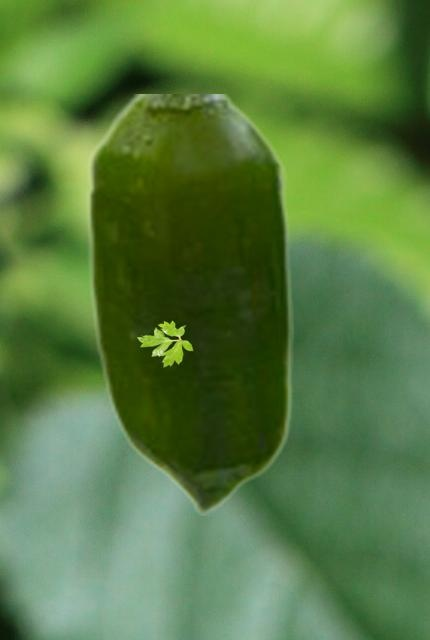green_chili: (85, 94, 292, 514)
